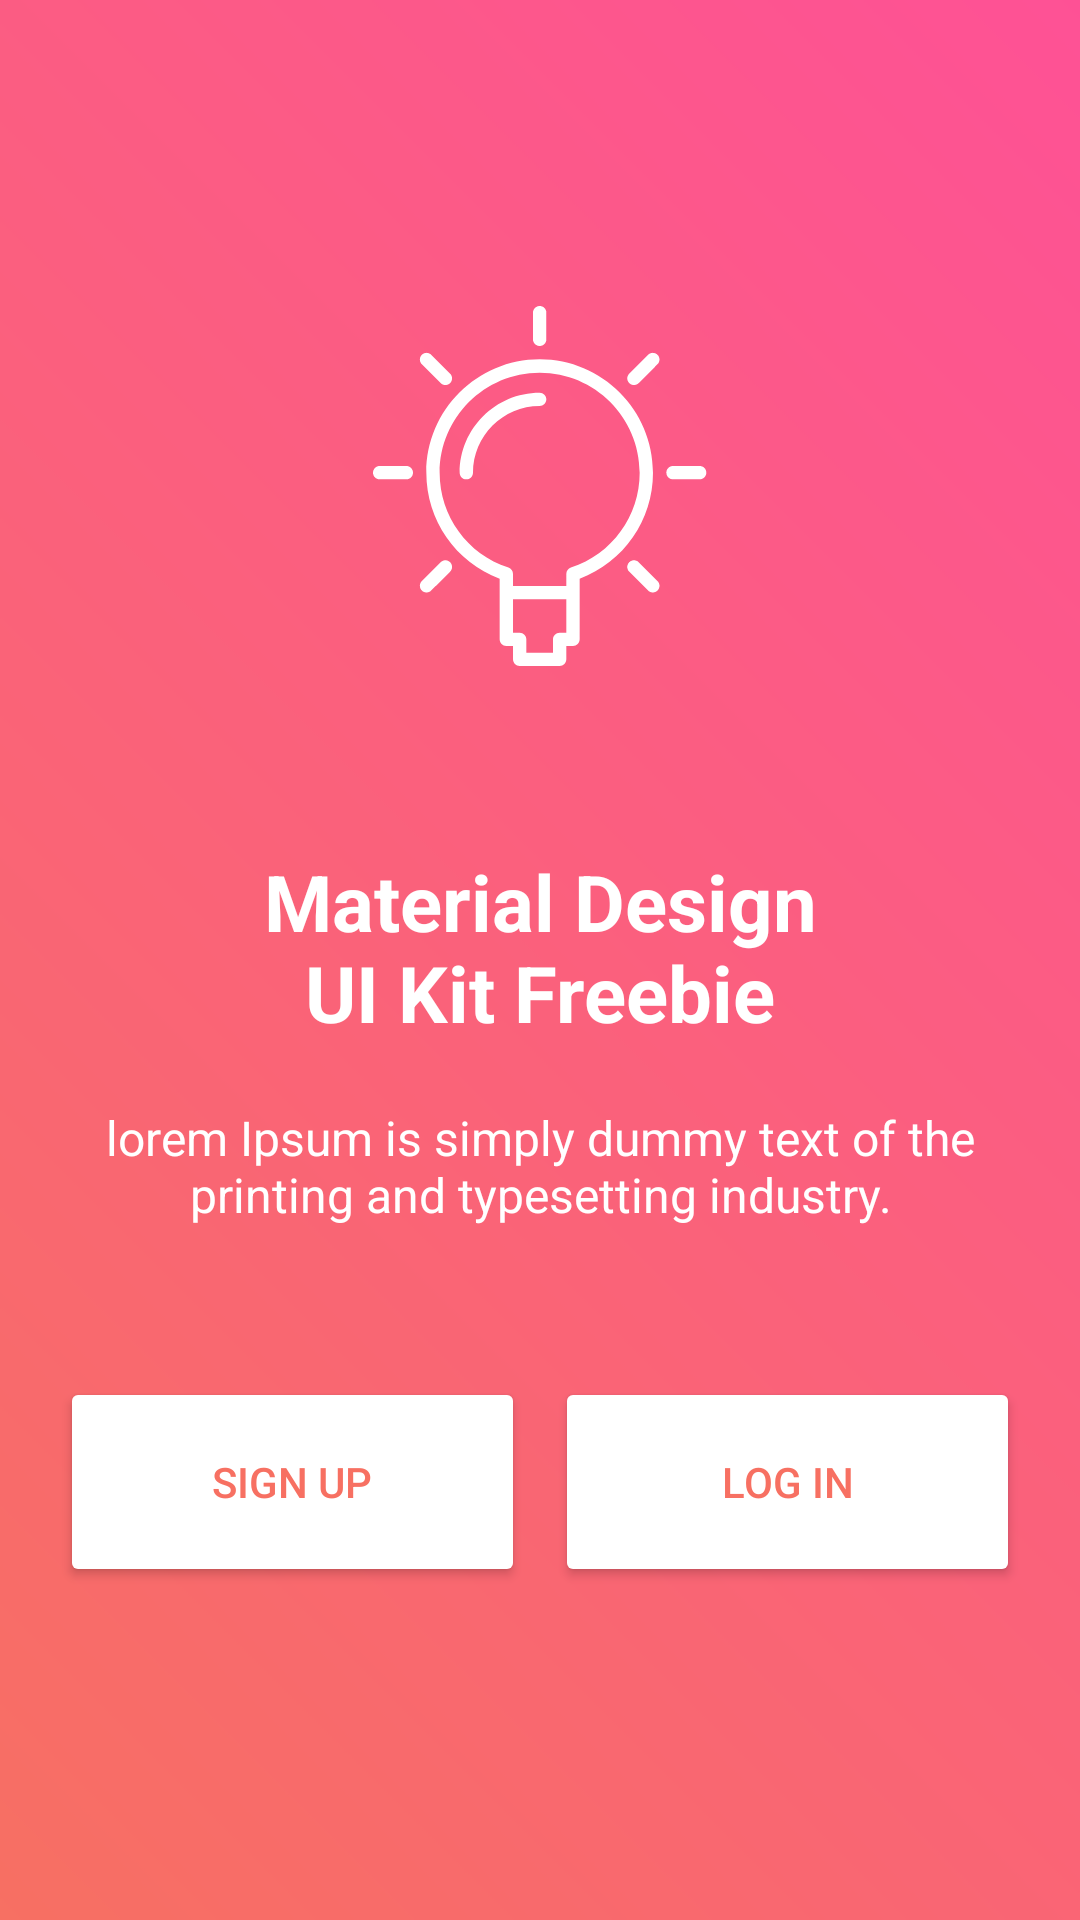

Icon click points for this 1080w x 1920h phone screenshot, format (x,y):
idea: (540,486)
